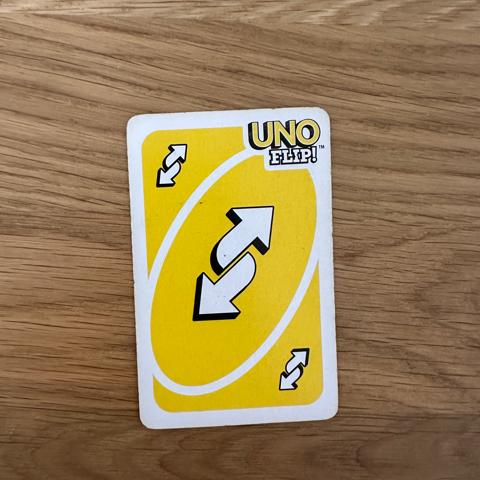lyellowrevers-20: (140, 128, 206, 197)
